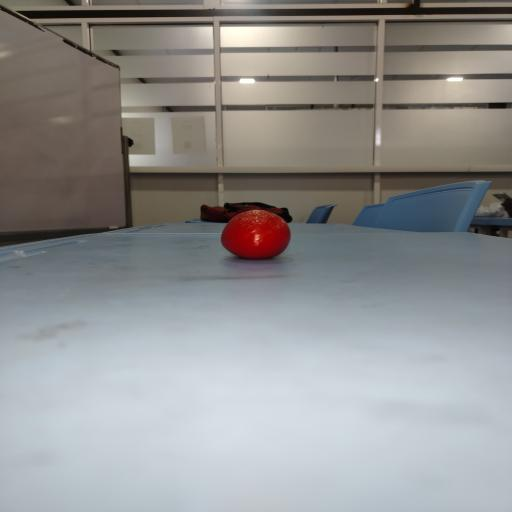spoiled: (221, 210, 290, 259)
